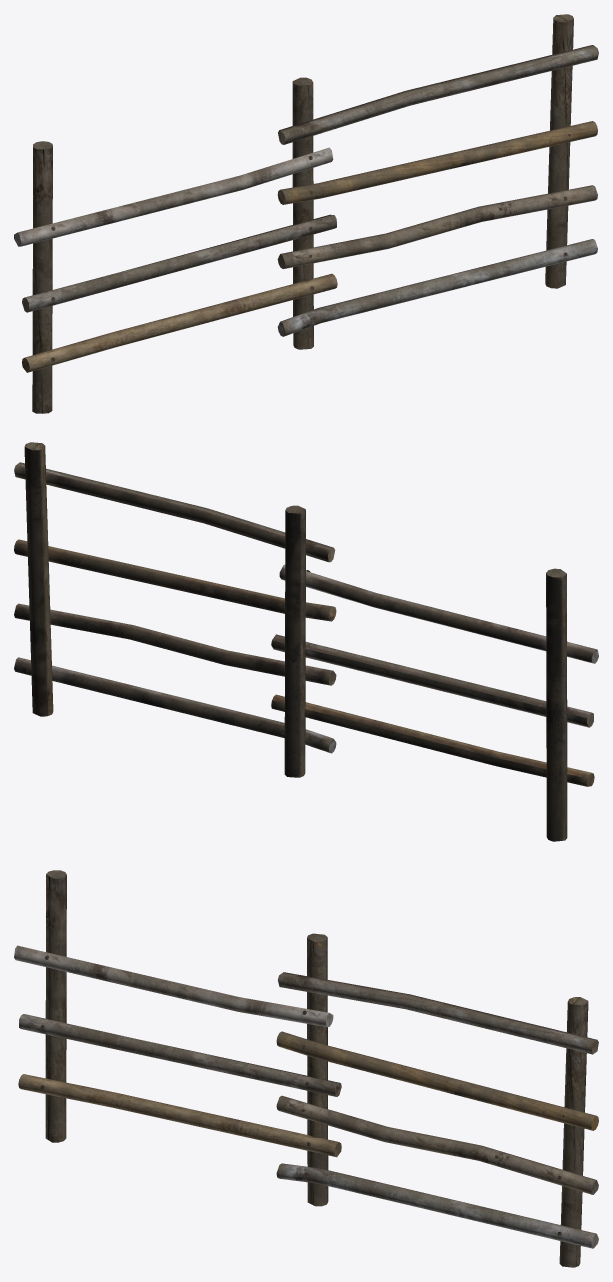
The model's file is garden_fenching1.fbx.
3 views of the same model, one above another, from view 1: azimuth 30°, elevation 25°; view 2: azimuth 150°, elevation 25°; view 3: azimuth 330°, elevation 25° (orthographic).
Visible parts, largest first — view 1: Line001; view 2: Line001; view 3: Line001.
Part boxes in pixels (x1,y1,x2,y2): Line001: (14, 14, 598, 413); Line001: (14, 442, 598, 841); Line001: (14, 870, 598, 1267).
Bounding box in the file's own units: 4.05 × 1.77 × 0.2164.
